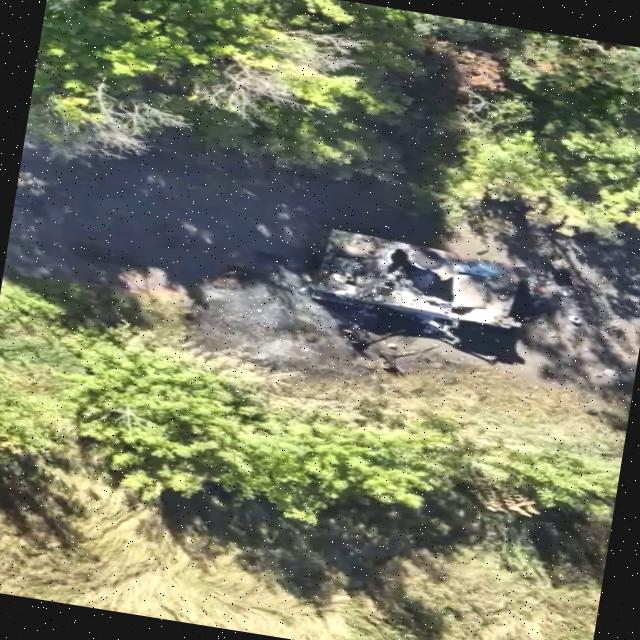Destroyed: (302, 221, 539, 343)
